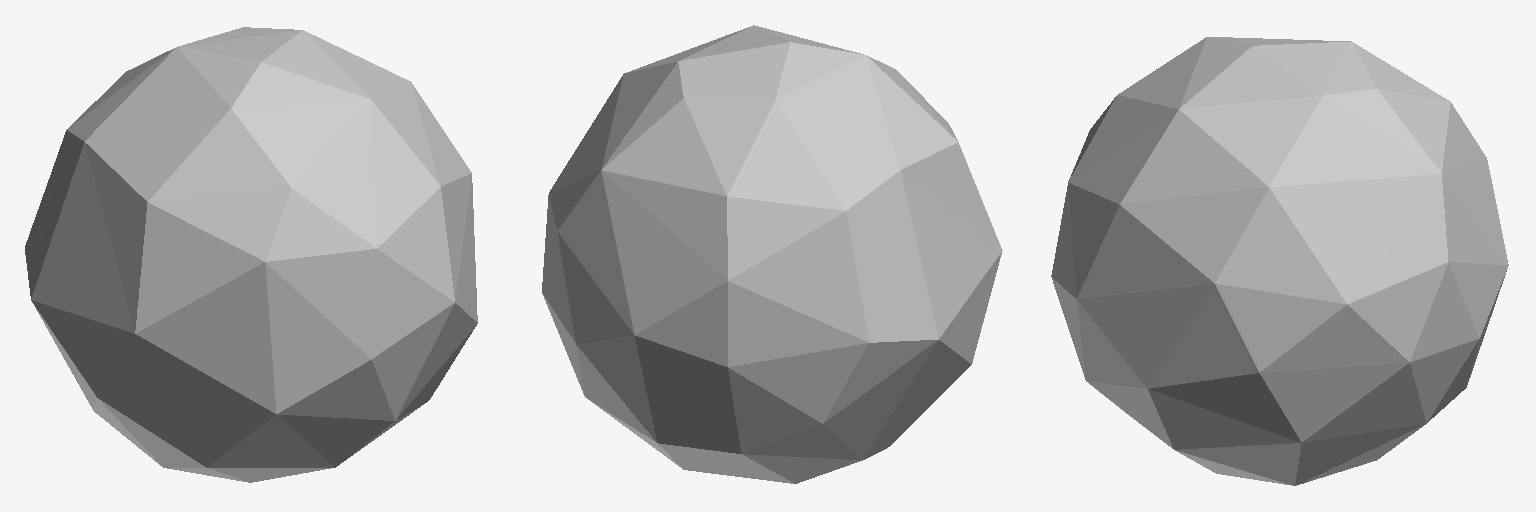
File: LowPolyBall.obj
3 renders of one model, left to right at view 1: azimuth 30°, elevation 25°; view 2: azimuth 150°, elevation 25°; view 3: azimuth 270°, elevation 25°, orthographic.
Parts seen in each view (by area): view 1: Sphere; view 2: Sphere; view 3: Sphere.
Boxes of the visible parts, box(x1,y1,x2,y2) form: Sphere: box(25, 27, 477, 482); Sphere: box(542, 25, 1002, 483); Sphere: box(1051, 37, 1508, 485).
Bounding box in the file's own units: 2.02 × 2.01 × 2.02.